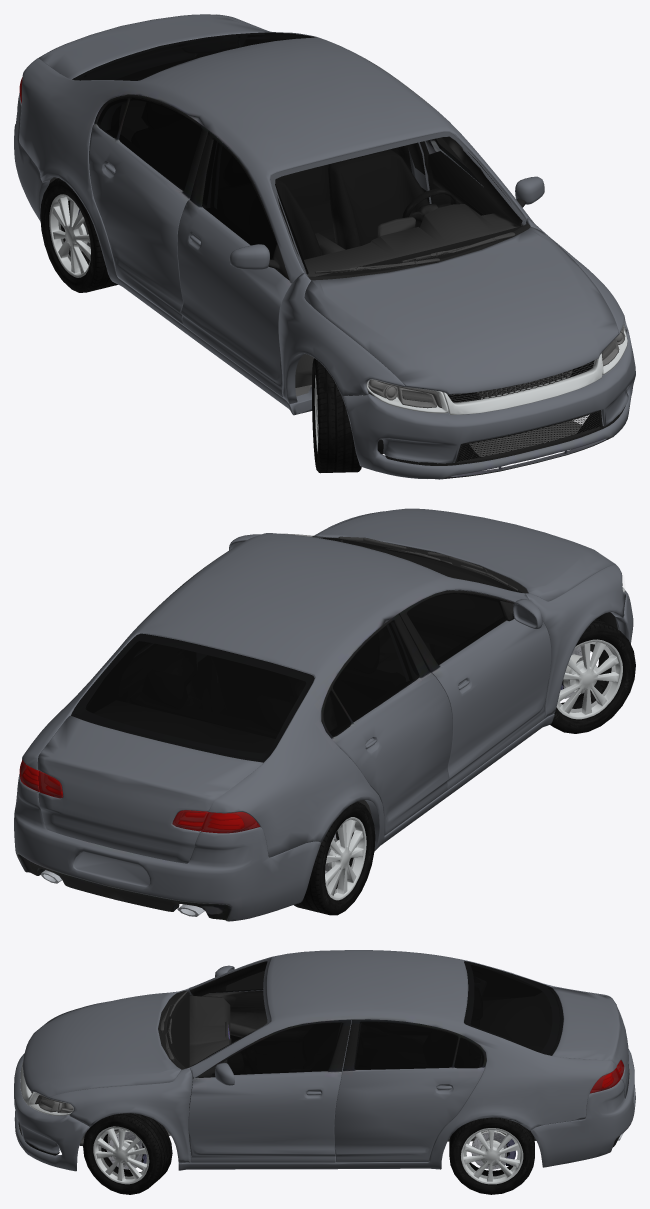
File: grand-sedan-lod1.glb
3 renders of one model, top to bottom at view 1: azimuth 30°, elevation 25°; view 2: azimuth 150°, elevation 25°; view 3: azimuth 270°, elevation 25°, orthographic. The views are drawn at different scales.
Parts seen in each view (by area): view 1: sedan-unibody_65, hood_60, windshield_102, bumper-front_8, door-front-r_17, door-rear-r_23, fender-front-r_33, front-seat-backrest_39, dashboard_13, trunk_99, door-rear-window-glass-r_27, door-front-window-glass-r_19 (+21 smaller); view 2: sedan-unibody_65, glass-rear_42, trunk_99, bumper-rear_10, door-front-r_17, door-rear-r_23, hood_60, fender-front-r_33, door-rear-window-glass-r_27, door-front-window-glass-r_19, generic-wheel.001_126, generic-tire-low.001_125 (+8 smaller); view 3: sedan-unibody_65, door-front-l_16, door-rear-l_22, hood_60, windshield_102, glass-rear_42, fender-front-l_32, bumper-rear_10, trunk_99, door-rear-window-glass-l_26, door-front-window-glass-l_18, bumper-front_8 (+14 smaller).
Boxes of the visible parts, x1,y1,x2,y2 form: sedan-unibody_65: (19,14,533,415); hood_60: (304,227,618,394); windshield_102: (270,132,527,276); bumper-front_8: (342,328,635,479); door-front-r_17: (177,131,291,396); door-rear-r_23: (89,94,208,324); fender-front-r_33: (278,273,404,404); front-seat-backrest_39: (328,149,428,249); dashboard_13: (304,204,520,276); trunk_99: (38,14,264,79); door-rear-window-glass-r_27: (119,98,201,190); door-front-window-glass-r_19: (202,139,276,259); sedan-unibody_65: (20,533,554,857); glass-rear_42: (71,633,314,762); trunk_99: (37,715,263,863); bumper-rear_10: (14,774,320,921); door-front-r_17: (398,590,551,790); door-rear-r_23: (321,614,452,835); hood_60: (312,508,615,601); fender-front-r_33: (525,564,625,718); door-rear-window-glass-r_27: (333,621,419,721); door-front-window-glass-r_19: (407,593,505,664); generic-wheel.001_126: (556,639,622,719); generic-tire-low.001_125: (550,617,635,733); sedan-unibody_65: (178,950,621,1170); door-front-l_16: (188,1019,351,1162); door-rear-l_22: (334,1019,486,1162); hood_60: (22,991,181,1098); windshield_102: (167,958,270,1068); glass-rear_42: (464,961,563,1055); fender-front-l_32: (49,1067,192,1163); bumper-rear_10: (530,1049,635,1167); trunk_99: (552,987,629,1098); door-rear-window-glass-l_26: (354,1022,457,1069); door-front-window-glass-l_18: (227,1023,342,1074); bumper-front_8: (14,1053,89,1171).
Size of the model in its own units: 2.07 by 1.44 by 4.78.
21 materials, 7 textured.
